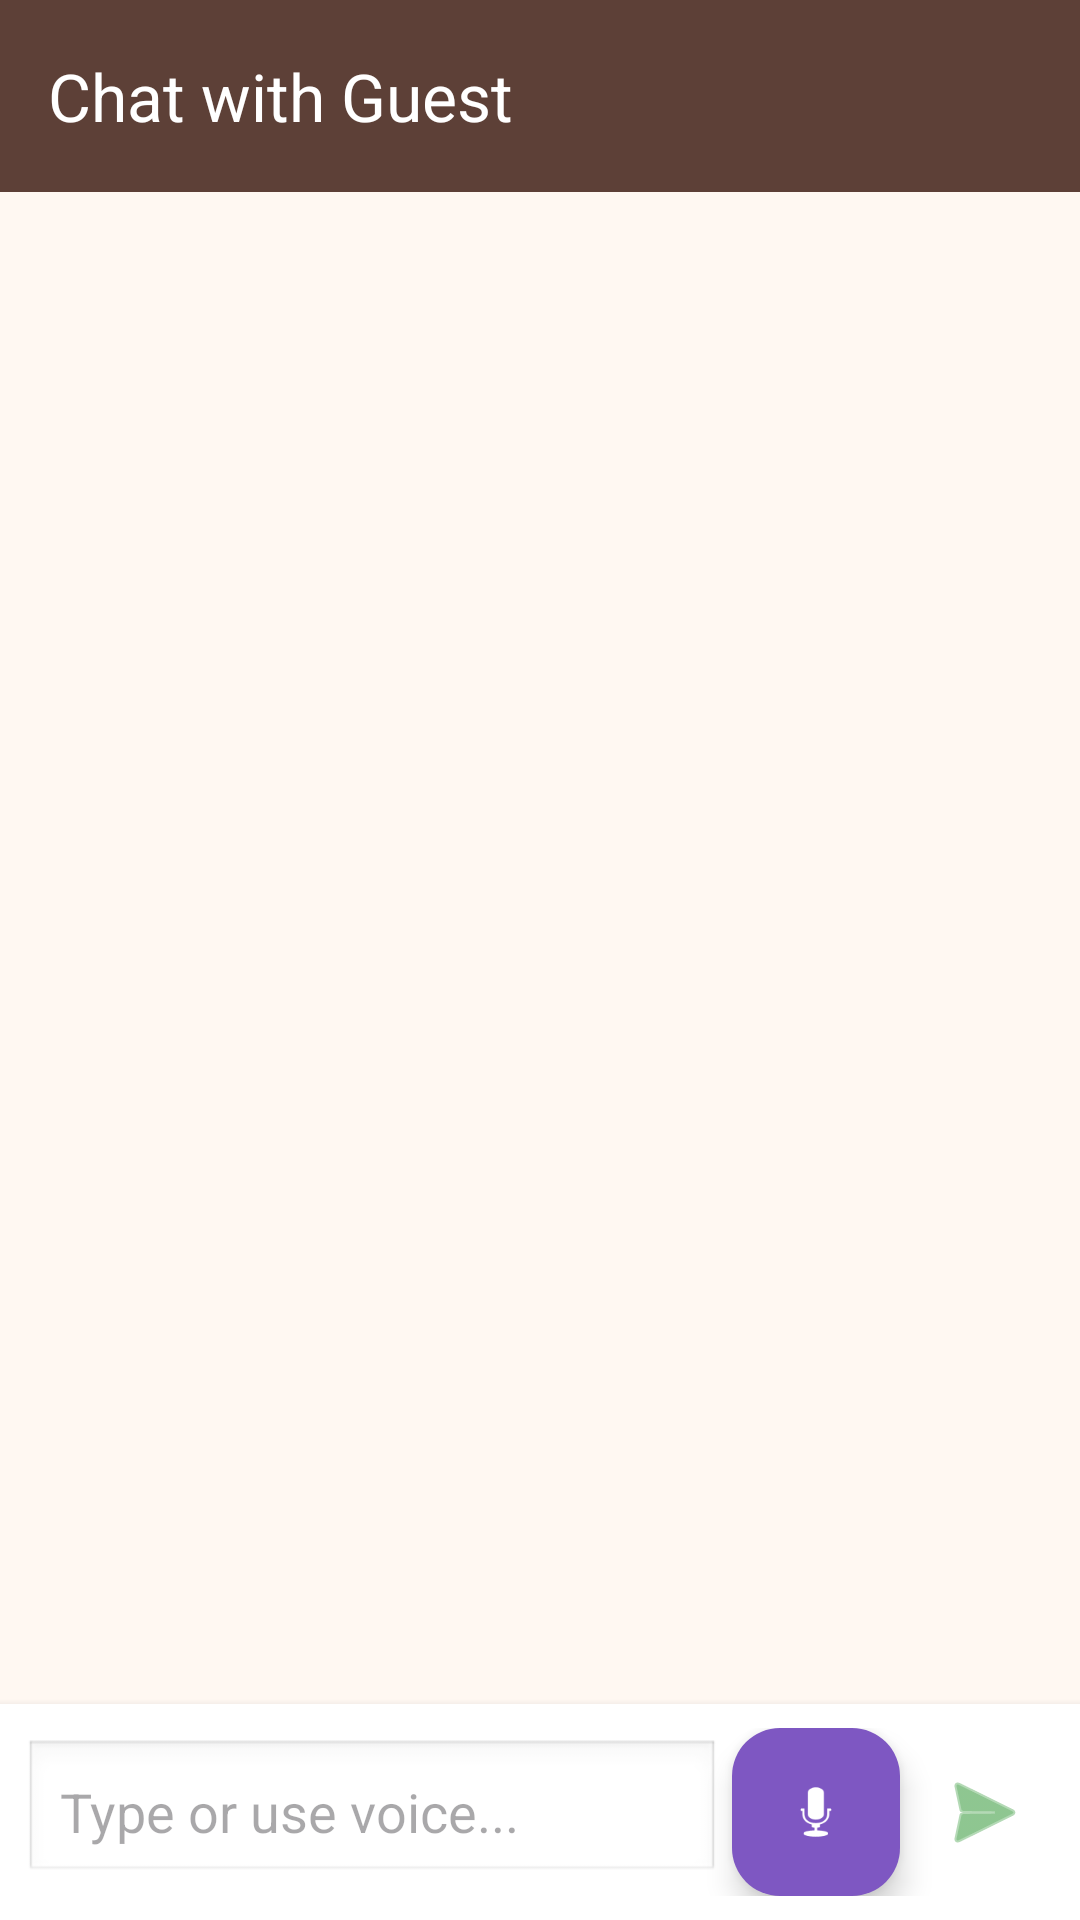

Icons on this 1080px×1920px Android screen, each with the point to tap as point (x, y):
Send: point (985, 1812)
Voice to Text: point (816, 1812)
